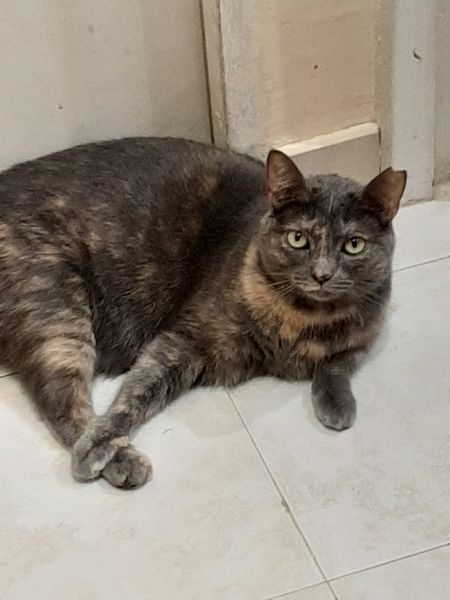cat: (1, 114, 410, 516)
